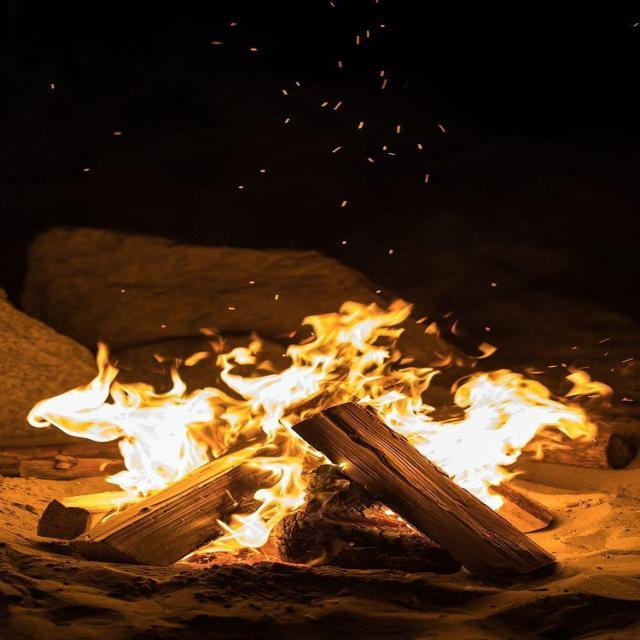Fire: (18, 298, 616, 568)
